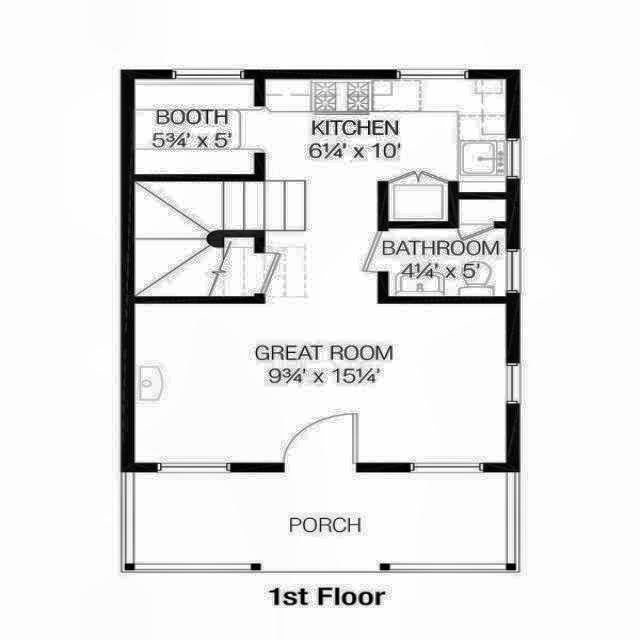room: (134, 79, 506, 462), (135, 181, 308, 296), (388, 228, 507, 297), (388, 182, 448, 221), (458, 199, 506, 222)
